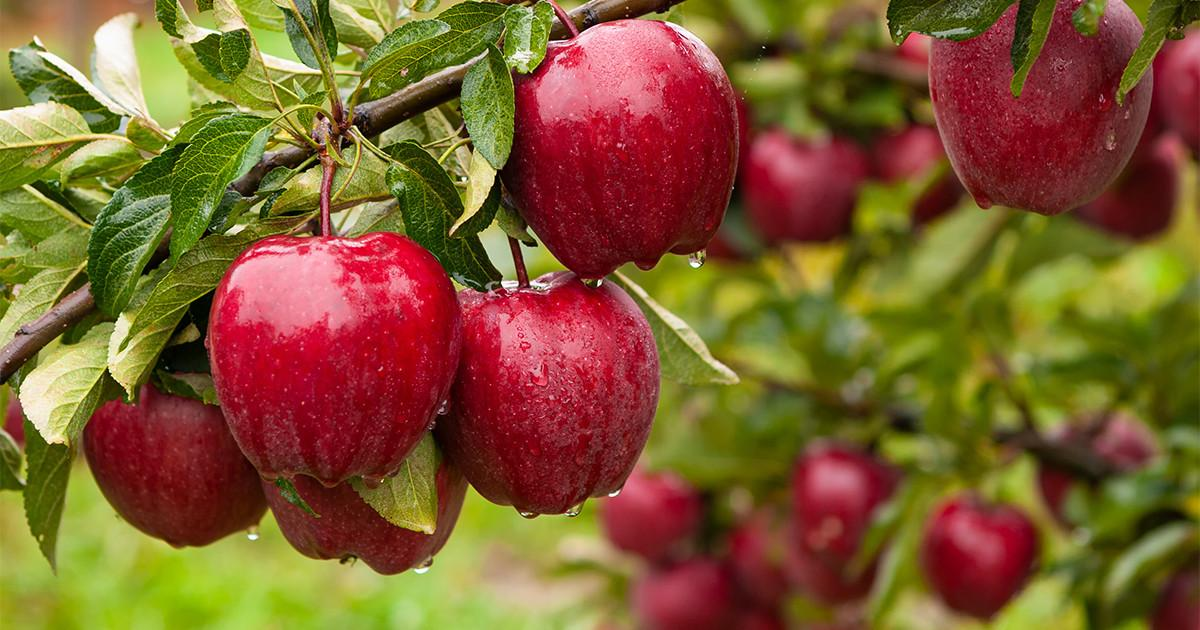Apple: (490, 13, 746, 267), (204, 233, 461, 484), (449, 267, 661, 525), (931, 0, 1146, 217), (84, 367, 282, 539), (617, 476, 797, 621), (754, 115, 876, 234), (789, 442, 901, 551), (923, 501, 1035, 608)
